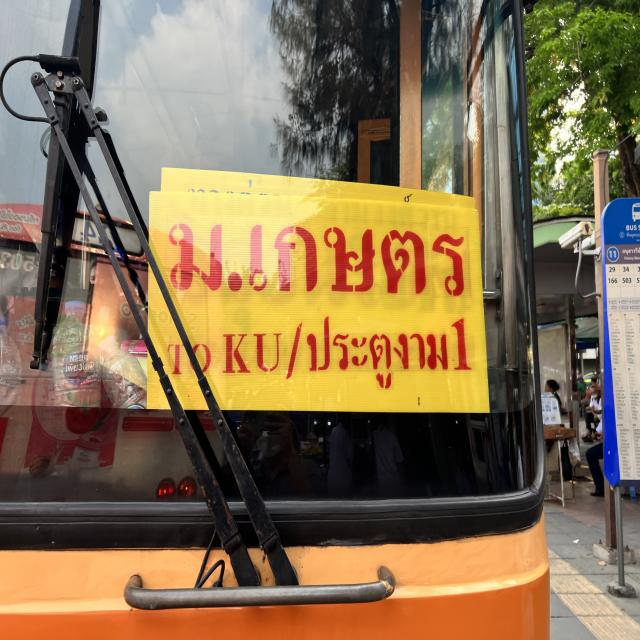BMTA-bus: (0, 0, 557, 640)
Destination-Sign-Extra-Bus-Expressway: (148, 193, 491, 408)
